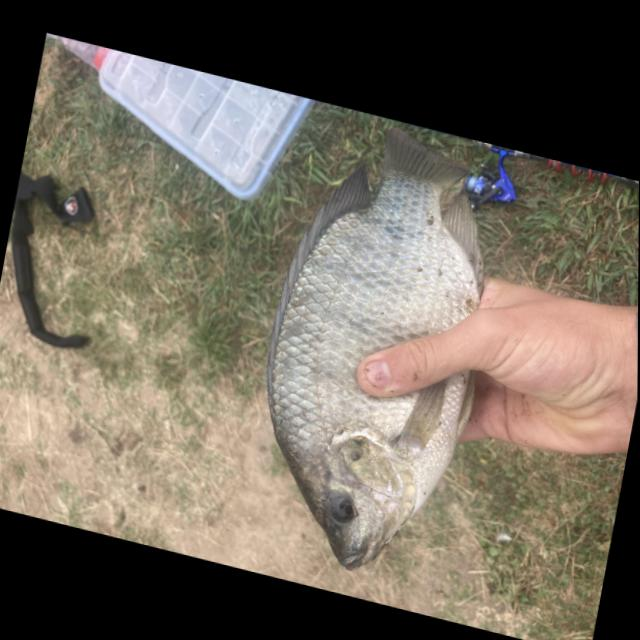Tilapia: (235, 101, 511, 595)
